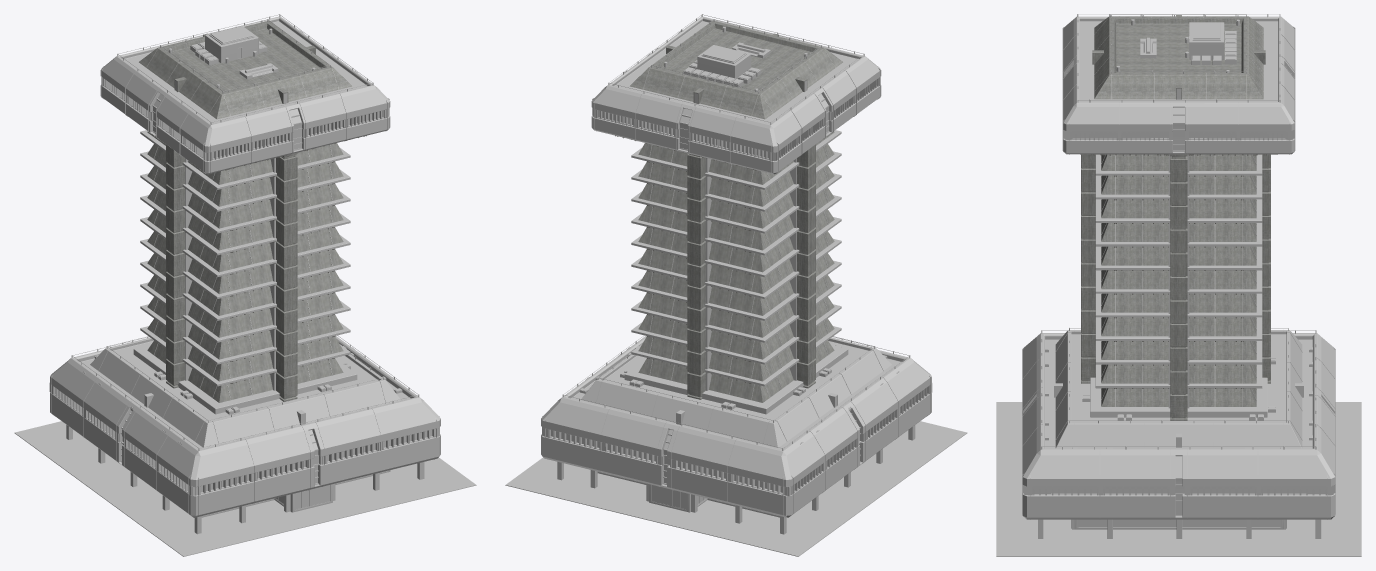
Rendered from Kitbash3D_Brutalist_Building_Large03.fbx.
3 renders of one model, left to right at view 1: azimuth 30°, elevation 25°; view 2: azimuth 150°, elevation 25°; view 3: azimuth 270°, elevation 25°, orthographic. The views are drawn at different scales.
Parts seen in each view (by area): view 1: L_Bldg_H_ConcFormHoles, L_Bldg_H_BldgConcBlock, L_Bldg_H_Sidewalk, L_Bldg_H_MullionConc, L_Bldg_H_bLINE, L_Bldg_H_Props_Details, L_Bldg_H_WindowsGlass, L_Bldg_H_Rails, L_Bldg_H_Column_Grp1, L_Bldg_H_Mull_WinFrames, L_Bldg_H_Door; view 2: L_Bldg_H_ConcFormHoles, L_Bldg_H_BldgConcBlock, L_Bldg_H_Sidewalk, L_Bldg_H_MullionConc, L_Bldg_H_bLINE, L_Bldg_H_Props_Details, L_Bldg_H_WindowsGlass, L_Bldg_H_Rails, L_Bldg_H_Column_Grp1, L_Bldg_H_Mull_WinFrames; view 3: L_Bldg_H_ConcFormHoles, L_Bldg_H_BldgConcBlock, L_Bldg_H_Sidewalk, L_Bldg_H_WindowsGlass, L_Bldg_H_bLINE, L_Bldg_H_MullionConc, L_Bldg_H_Props_Details, L_Bldg_H_Rails, L_Bldg_H_Mull_WinFrames, L_Bldg_H_Door, L_Bldg_H_Column_Grp1, L_Bldg_H_Beams.
Boxes of the visible parts, left/top/right/bottom form: L_Bldg_H_ConcFormHoles: left=50, top=16, right=440, bottom=517; L_Bldg_H_BldgConcBlock: left=139, top=20, right=351, bottom=402; L_Bldg_H_Sidewalk: left=14, top=421, right=476, bottom=556; L_Bldg_H_MullionConc: left=49, top=78, right=439, bottom=496; L_Bldg_H_bLINE: left=51, top=21, right=439, bottom=517; L_Bldg_H_Props_Details: left=82, top=26, right=402, bottom=444; L_Bldg_H_WindowsGlass: left=122, top=93, right=432, bottom=509; L_Bldg_H_Rails: left=71, top=14, right=419, bottom=450; L_Bldg_H_Column_Grp1: left=66, top=425, right=424, bottom=534; L_Bldg_H_Mull_WinFrames: left=201, top=470, right=390, bottom=517; L_Bldg_H_Door: left=144, top=33, right=346, bottom=424; L_Bldg_H_ConcFormHoles: left=541, top=16, right=931, bottom=517; L_Bldg_H_BldgConcBlock: left=630, top=20, right=842, bottom=402; L_Bldg_H_Sidewalk: left=505, top=421, right=967, bottom=556; L_Bldg_H_MullionConc: left=542, top=78, right=932, bottom=496; L_Bldg_H_bLINE: left=542, top=21, right=930, bottom=517; L_Bldg_H_Props_Details: left=579, top=42, right=899, bottom=444; L_Bldg_H_WindowsGlass: left=551, top=93, right=859, bottom=509; L_Bldg_H_Rails: left=562, top=14, right=910, bottom=450; L_Bldg_H_Column_Grp1: left=557, top=425, right=915, bottom=534; L_Bldg_H_Mull_WinFrames: left=597, top=471, right=779, bottom=517; L_Bldg_H_ConcFormHoles: left=1022, top=16, right=1335, bottom=529; L_Bldg_H_BldgConcBlock: left=1080, top=16, right=1277, bottom=420; L_Bldg_H_Sidewalk: left=996, top=402, right=1361, bottom=556; L_Bldg_H_WindowsGlass: left=1032, top=107, right=1327, bottom=526; L_Bldg_H_bLINE: left=1022, top=16, right=1335, bottom=519; L_Bldg_H_MullionConc: left=1023, top=73, right=1334, bottom=515; L_Bldg_H_Props_Details: left=1045, top=22, right=1312, bottom=448; L_Bldg_H_Rails: left=1041, top=14, right=1316, bottom=449; L_Bldg_H_Mull_WinFrames: left=1071, top=519, right=1286, bottom=529; L_Bldg_H_Door: left=1054, top=15, right=1303, bottom=447; L_Bldg_H_Column_Grp1: left=1038, top=519, right=1321, bottom=538; L_Bldg_H_Beams: left=1090, top=154, right=1266, bottom=388.
Bounding box in the file's own units: 45.63 × 61.93 × 45.63.
